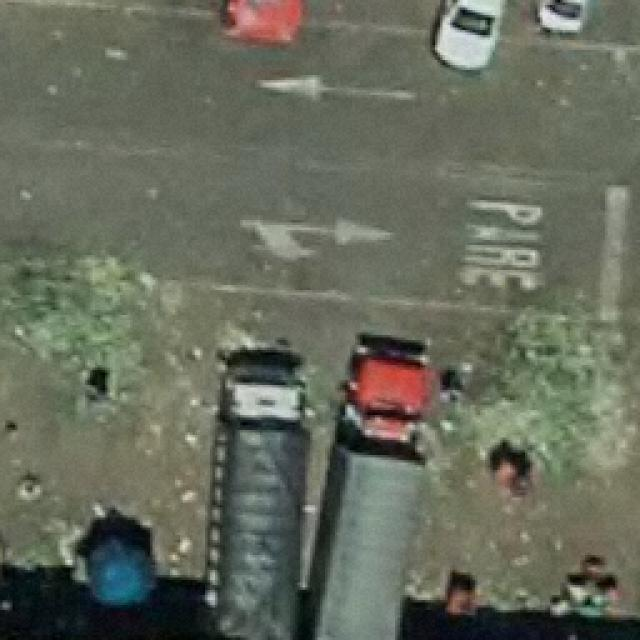vendedor_ambulante: (78, 518, 162, 610)
